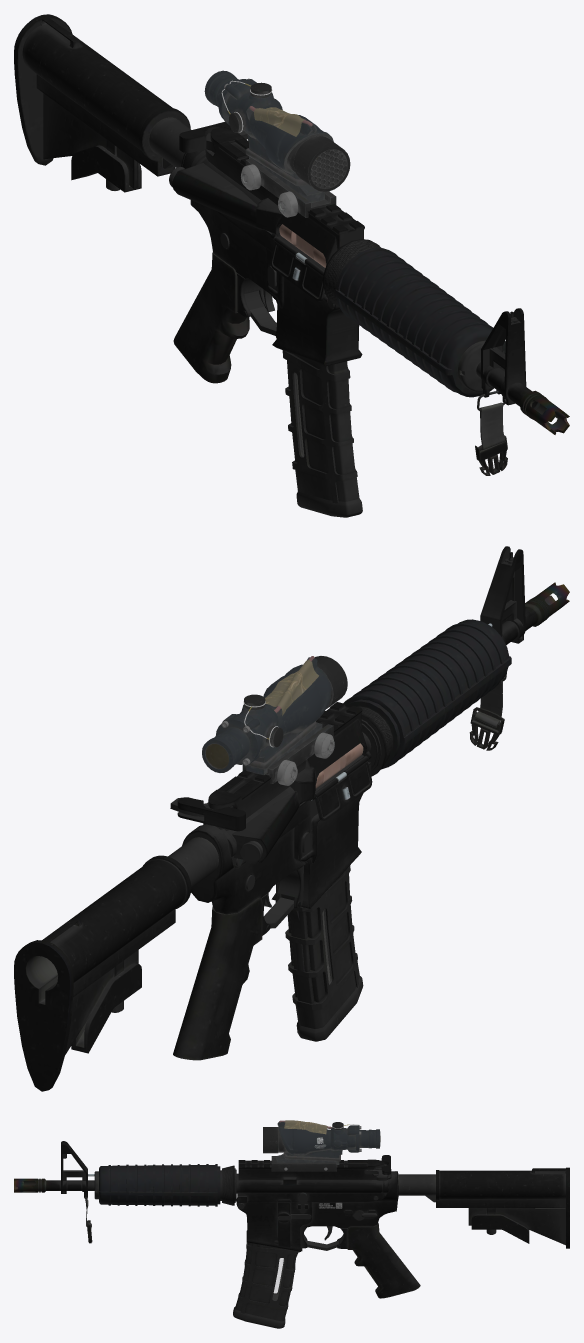
3 views of the same model, one above another, from view 1: azimuth 30°, elevation 25°; view 2: azimuth 150°, elevation 25°; view 3: azimuth 270°, elevation 25° (orthographic). The views are drawn at different scales.
Parts seen in each view (by area): view 1: ar15_ar 15 2_0, ar15_ar15 1_0, acog_optic.001_0, magazine_ar 15 2_0, belt_ar 15 2_0, dust cover_ar15 1_0, ar15.005_ar15 1_0; view 2: ar15_ar 15 2_0, ar15_ar15 1_0, acog_optic.001_0, magazine_ar 15 2_0, dust cover_ar15 1_0, belt_ar 15 2_0, ar15.005_ar15 1_0; view 3: ar15_ar 15 2_0, ar15_ar15 1_0, acog_optic.001_0, magazine_ar 15 2_0, ar15.005_ar15 1_0.
Boxes of the visible parts, box(x1,y1,x2,y2) form: ar15_ar 15 2_0: box(14, 14, 505, 397); ar15_ar15 1_0: box(172, 128, 569, 434); acog_optic.001_0: box(204, 70, 350, 217); magazine_ar 15 2_0: box(282, 350, 362, 517); belt_ar 15 2_0: box(475, 390, 507, 475); dust cover_ar15 1_0: box(270, 236, 324, 301); ar15.005_ar15 1_0: box(179, 122, 247, 152); ar15_ar 15 2_0: box(14, 619, 511, 1091); ar15_ar15 1_0: box(182, 546, 569, 935); acog_optic.001_0: box(202, 656, 347, 785); magazine_ar 15 2_0: box(285, 865, 363, 1041); dust cover_ar15 1_0: box(315, 756, 372, 820); belt_ar 15 2_0: box(469, 672, 506, 750); ar15.005_ar15 1_0: box(170, 797, 245, 831); ar15_ar 15 2_0: box(94, 1164, 569, 1298); ar15_ar15 1_0: box(14, 1141, 398, 1251); acog_optic.001_0: box(263, 1120, 380, 1171); magazine_ar 15 2_0: box(233, 1242, 300, 1328); ar15.005_ar15 1_0: box(365, 1155, 391, 1180).
Bounding box in the file's own units: 0.0905 × 0.3674 × 0.9024.
Materials: 3 (3 with a texture image).
